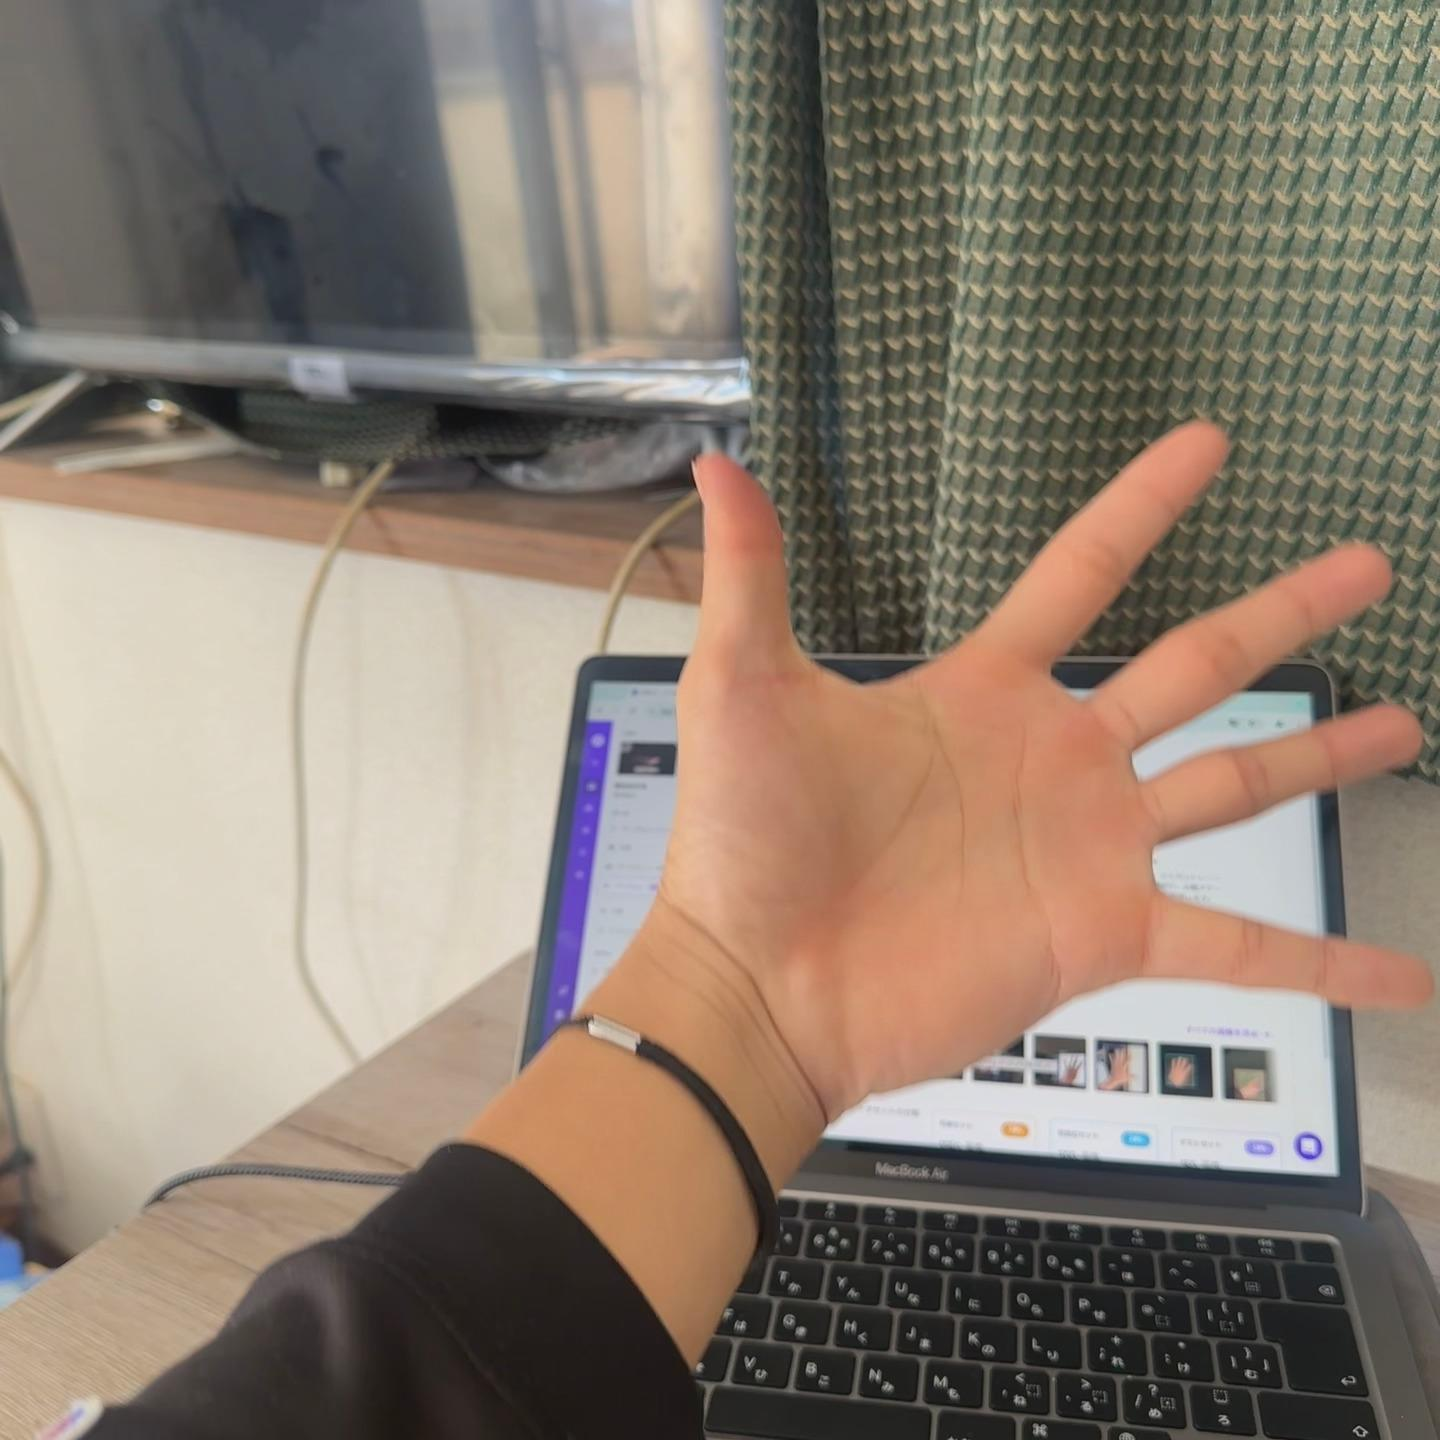without_gloves: (658, 287, 1402, 1146)
